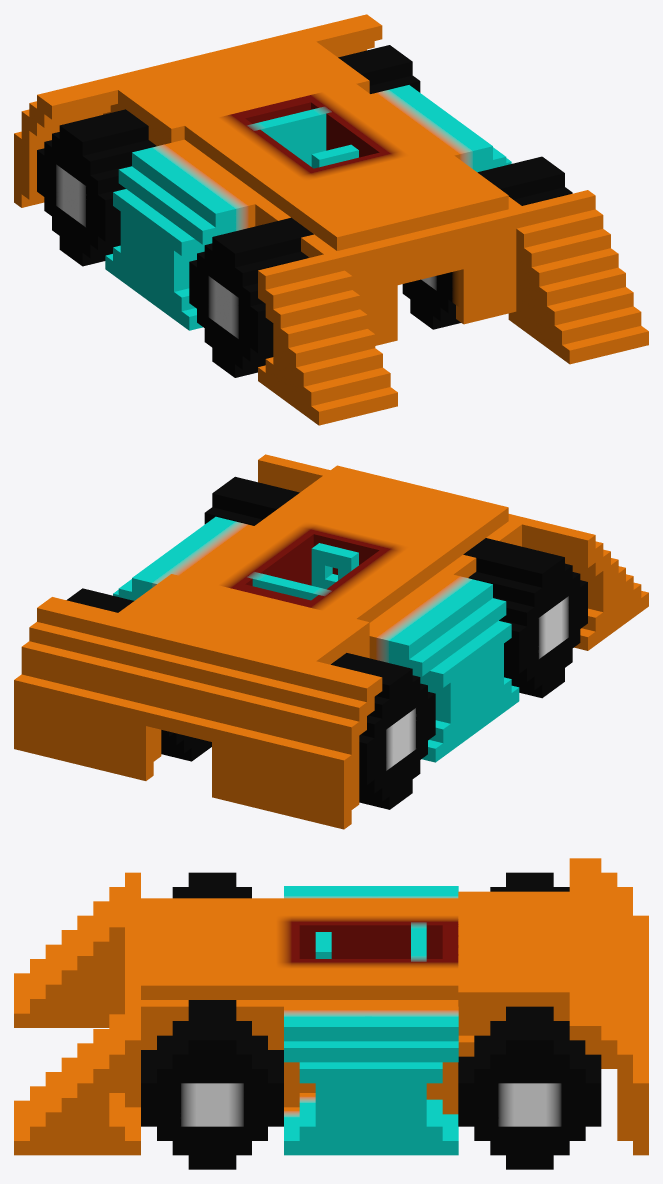
Rendered from Car_17.fbx.
The picture shows the model from 3 angles, top to bottom: view 1: azimuth 30°, elevation 25°; view 2: azimuth 150°, elevation 25°; view 3: azimuth 270°, elevation 25°; orthographic projection. The views are drawn at different scales.
Parts seen in each view (by area): view 1: Car_17; view 2: Car_17; view 3: Car_17.
Part boxes in pixels (box(x1,y1,x2,y2)): Car_17: box(14, 14, 648, 425); Car_17: box(14, 454, 648, 829); Car_17: box(14, 858, 648, 1169).
Size of the model in its own units: 25 by 10 by 40.
1 material, 1 textured.
